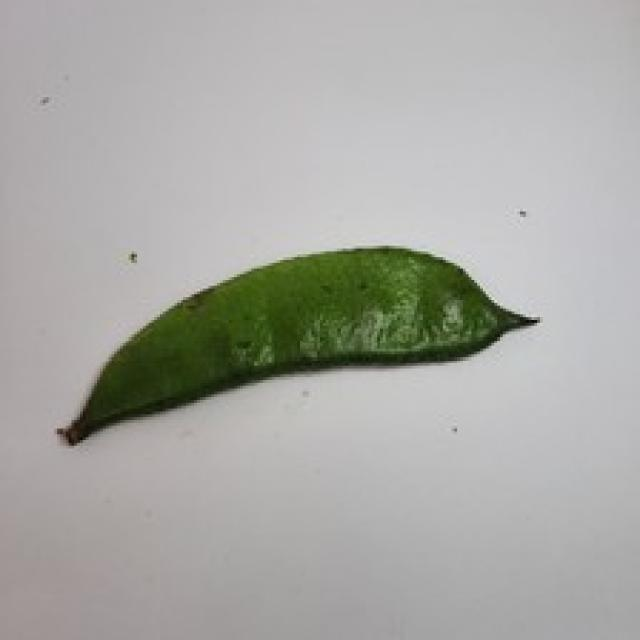Bean: (54, 243, 540, 446)
